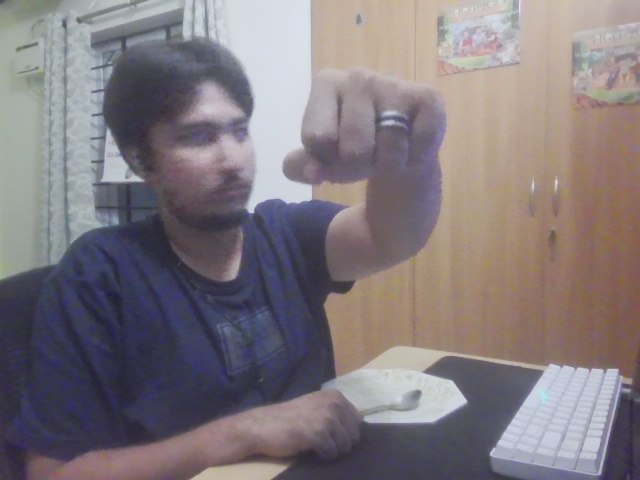yes: (279, 66, 450, 194)
